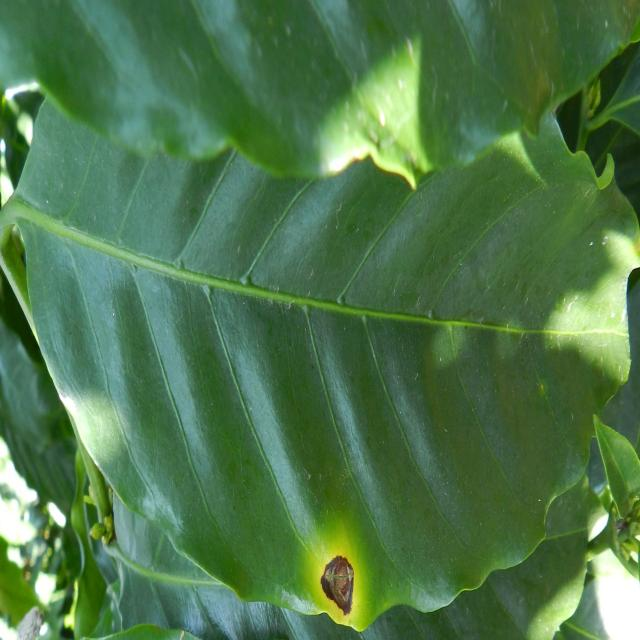Enfermedad-Mancha-de-hierro: (13, 44, 640, 633)
